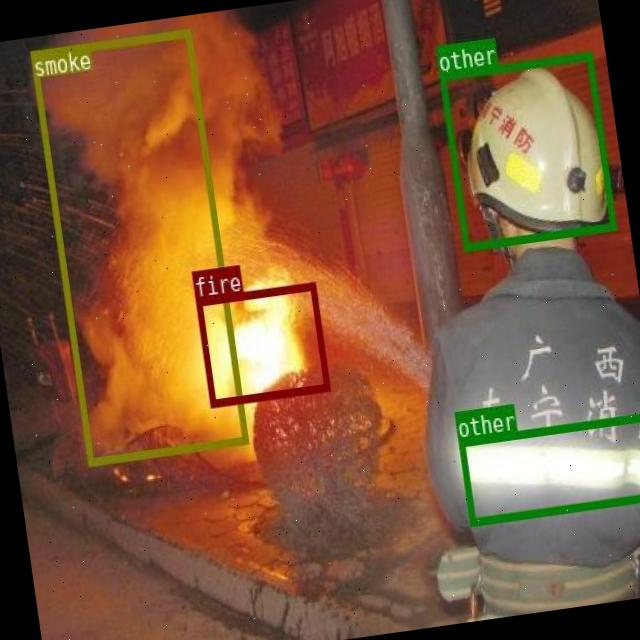fire: (195, 282, 330, 408)
smoke: (30, 29, 247, 464)
